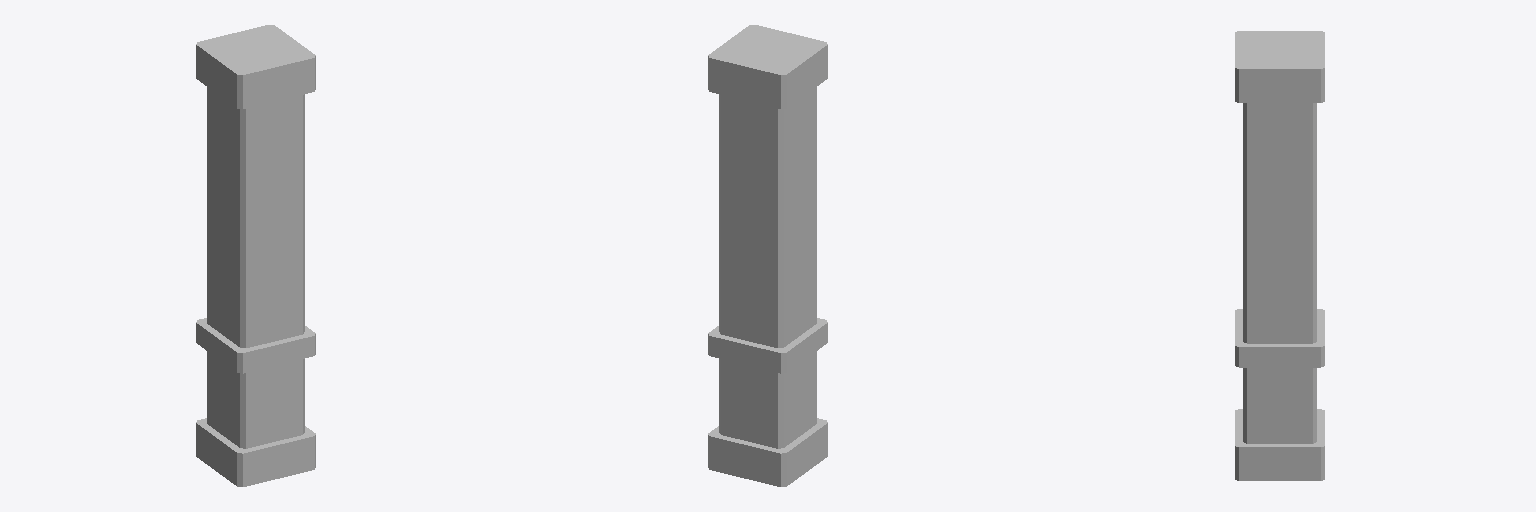
Rendered from Pillar.obj.
3 renders of one model, left to right at view 1: azimuth 30°, elevation 25°; view 2: azimuth 150°, elevation 25°; view 3: azimuth 270°, elevation 25°, orthographic.
Visible parts, largest first — view 1: Pillar; view 2: Pillar; view 3: Pillar.
Part boxes in pixels (bbox=[...]): Pillar: bbox=[196, 25, 315, 486]; Pillar: bbox=[708, 25, 827, 486]; Pillar: bbox=[1235, 31, 1324, 480].
Size of the model in its own units: 6.1 by 30.52 by 6.1.